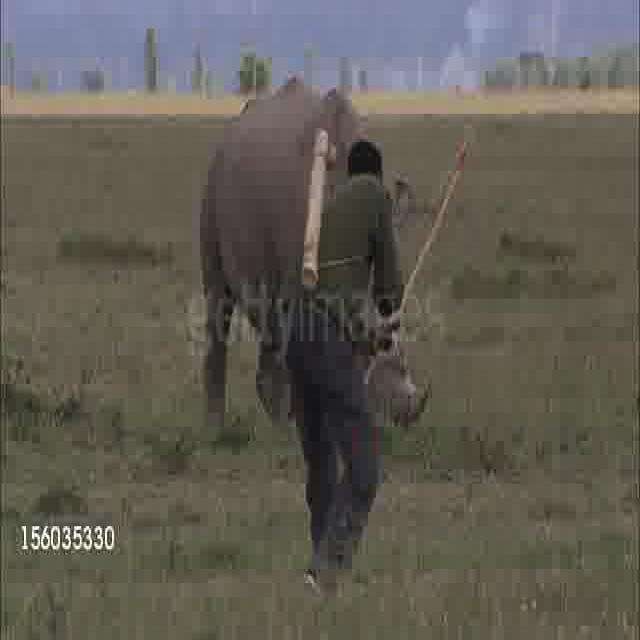poacher: (247, 210, 396, 622)
weapon: (200, 232, 294, 298)
